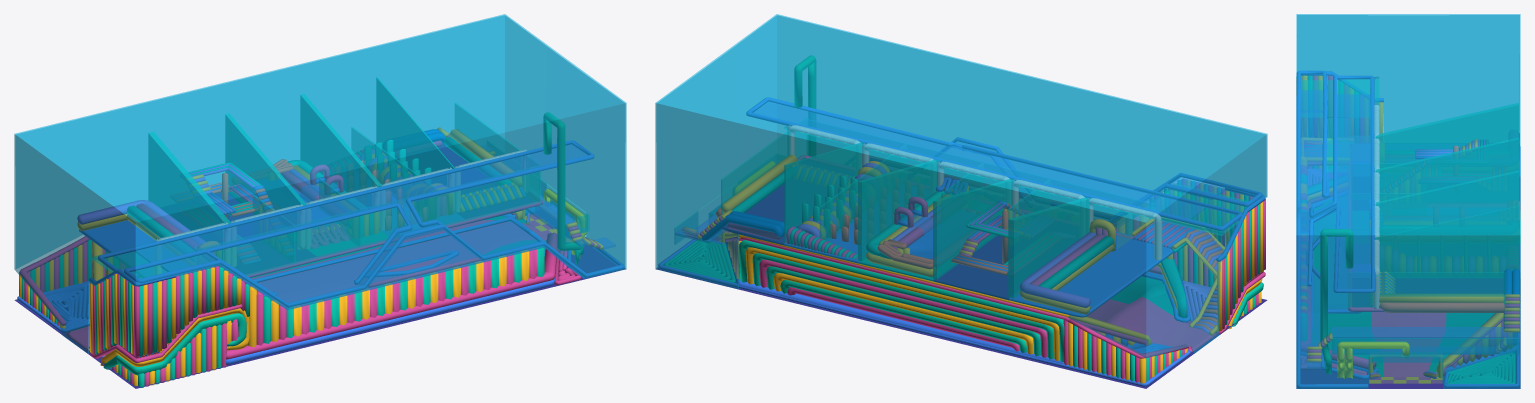
The model's file is dcl_knockout_stadium.glb.
3 views of the same model, side by side, from view 1: azimuth 30°, elevation 25°; view 2: azimuth 150°, elevation 25°; view 3: azimuth 270°, elevation 25° (orthographic). The views are drawn at different scales.
Visible parts, largest first — view 1: externalWall, course_glass_walls, interior_glass_walls, Cylinder.033, platform.001, newCourse_mod, platform, Cylinder.214, game_floor, Cylinder.211, Cylinder.032, newArch (+16 smaller); view 2: externalWall, course_glass_walls, game_floor, platform, Cylinder.214, interior_glass_walls, newCourse_mod, Cylinder.211, newArch, inner_course_walls, Cylinder.014, Cylinder.016 (+28 smaller); view 3: externalWall, course_glass_walls, newCourse_mod, platform, platform.001, Cylinder.214, interior_glass_walls, Cylinder.211, knockout_lower_plat, front_ramp, game_floor, start_gate_glass (+19 smaller).
Part boxes in pixels (<box>): externalWall: <box>14,14,626,353</box>; course_glass_walls: <box>148,77,454,230</box>; interior_glass_walls: <box>91,103,540,283</box>; Cylinder.033: <box>286,246,544,338</box>; platform.001: <box>161,203,583,309</box>; newCourse_mod: <box>66,216,547,353</box>; platform: <box>135,144,586,262</box>; Cylinder.214: <box>17,210,624,332</box>; game_floor: <box>79,142,533,277</box>; Cylinder.211: <box>98,140,594,284</box>; Cylinder.032: <box>226,232,557,359</box>; newArch: <box>155,149,528,274</box>; externalWall: <box>655,14,1267,357</box>; course_glass_walls: <box>784,142,1089,297</box>; game_floor: <box>721,184,1173,317</box>; platform: <box>754,101,1205,218</box>; Cylinder.214: <box>658,137,1262,386</box>; interior_glass_walls: <box>721,126,1247,235</box>; newCourse_mod: <box>1087,276,1218,351</box>; Cylinder.211: <box>746,97,1242,230</box>; newArch: <box>787,124,1162,259</box>; inner_course_walls: <box>820,155,1050,240</box>; Cylinder.014: <box>738,240,1064,362</box>; Cylinder.016: <box>752,253,1054,359</box>; externalWall: <box>1296,14,1520,388</box>; course_glass_walls: <box>1375,103,1518,272</box>; newCourse_mod: <box>1311,200,1494,376</box>; platform: <box>1337,94,1370,288</box>; platform.001: <box>1301,90,1347,368</box>; Cylinder.214: <box>1296,70,1519,388</box>; interior_glass_walls: <box>1301,77,1505,307</box>; Cylinder.211: <box>1307,75,1375,292</box>; knockout_lower_plat: <box>1331,333,1518,354</box>; front_ramp: <box>1307,327,1519,368</box>; game_floor: <box>1352,146,1520,311</box>; start_gate_glass: <box>1368,354,1443,383</box>.
Size of what is drawn, in the model's own units: 112 by 37.74 by 48.
17 materials, 16 textured.
